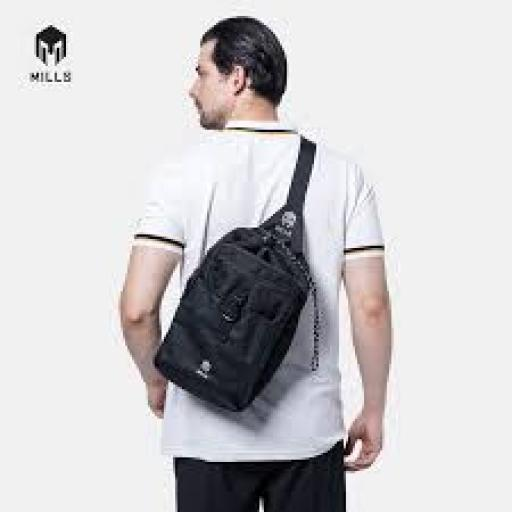tas sandang: (153, 208, 327, 410)
